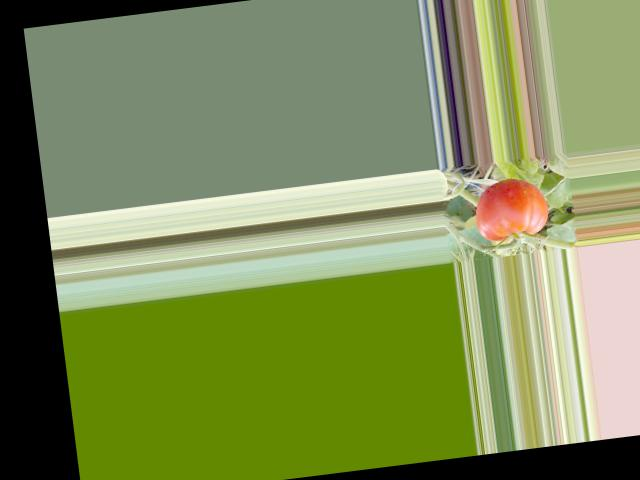tomato: (470, 174, 550, 243)
